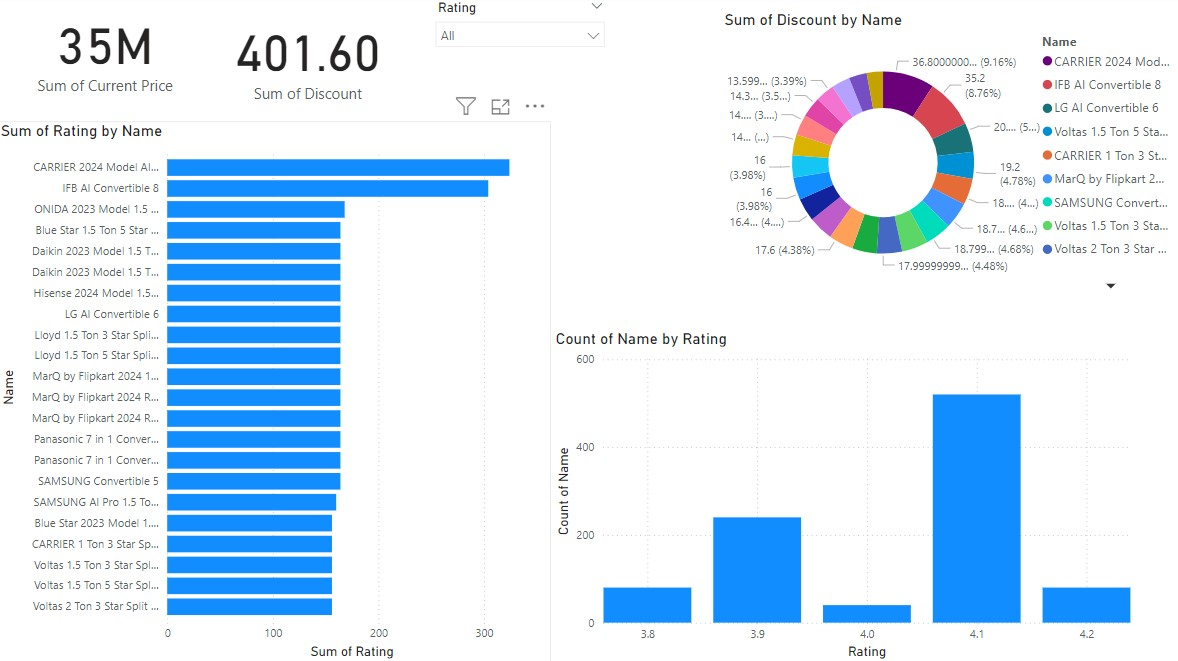

The dashboard page shown, as its layout file describes it:
{"tool":"powerbi","page":{"name":"Page 1","canvas":[1280,720],"ordinal":0},"visuals":[{"type":"card","fields":{"Values":["Sum(Flipkart AC1.Current Price)"]},"box":[9.6,0,216.8,118],"z":0},{"type":"slicer","fields":{"Values":["Flipkart AC1.Rating"]},"box":[463.8,0,203.1,134.5],"z":1},{"type":"card","fields":{"Values":["Sum(Flipkart AC1.Discount)"]},"box":[208.6,0,255.2,134.5],"z":2},{"type":"barChart","fields":{"Category":["Flipkart AC1.Name"],"Y":["Sum(Flipkart AC1.Rating)"]},"box":[0,135.8,598.3,584.6],"z":3},{"type":"columnChart","fields":{"Category":["Flipkart AC1.Rating"],"Y":["CountNonNull(Flipkart AC1.Name)"]},"box":[598.3,359.5,629.8,360.9],"z":4},{"type":"donutChart","fields":{"Category":["Flipkart AC1.Name"],"Y":["Sum(Flipkart AC1.Discount)"]},"box":[780.8,16.5,499.5,310.1],"z":5}]}

Visuals, with their boxes in screenshot pixels (x1, y1, x2, y2), scaled from the page's 1280x720 canvas onto the 1178x661 screenshot:
card - Sum(Flipkart AC1.Current Price): 9 0 208 108
slicer - Flipkart AC1.Rating: 427 0 614 123
card - Sum(Flipkart AC1.Discount): 192 0 427 123
barChart - Flipkart AC1.Name x Sum(Flipkart AC1.Rating): 0 125 551 660
columnChart - Flipkart AC1.Rating x CountNonNull(Flipkart AC1.Name): 551 330 1130 660
donutChart - Flipkart AC1.Name x Sum(Flipkart AC1.Discount): 719 15 1177 300
